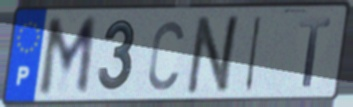3: (96, 17, 137, 95)
C: (145, 18, 186, 93)
I: (242, 14, 265, 94)
M: (35, 14, 100, 100)
N: (183, 12, 246, 97)
T: (297, 16, 333, 89)
